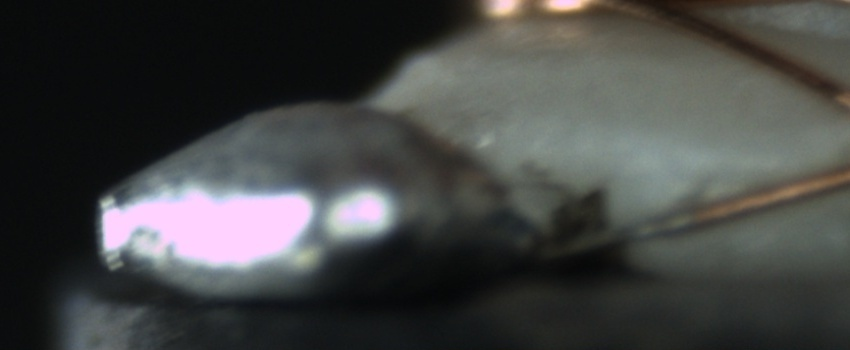TS: (546, 209, 692, 261)
